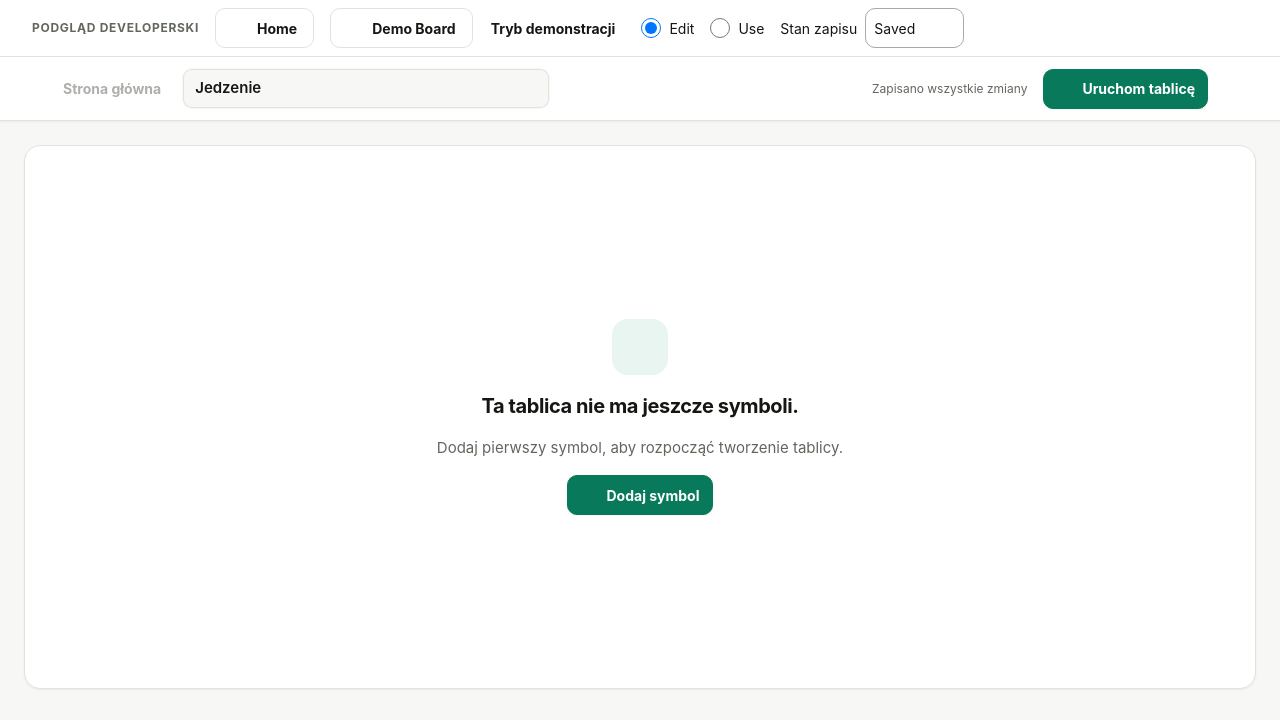
Test: App › keeps demo name changes in local React state
The width and height of the screenshot is (1280, 720).
Replace the text in the field named "Nazwa tablicy" with "Napoje" at (366, 89), box [182,68,550,109]
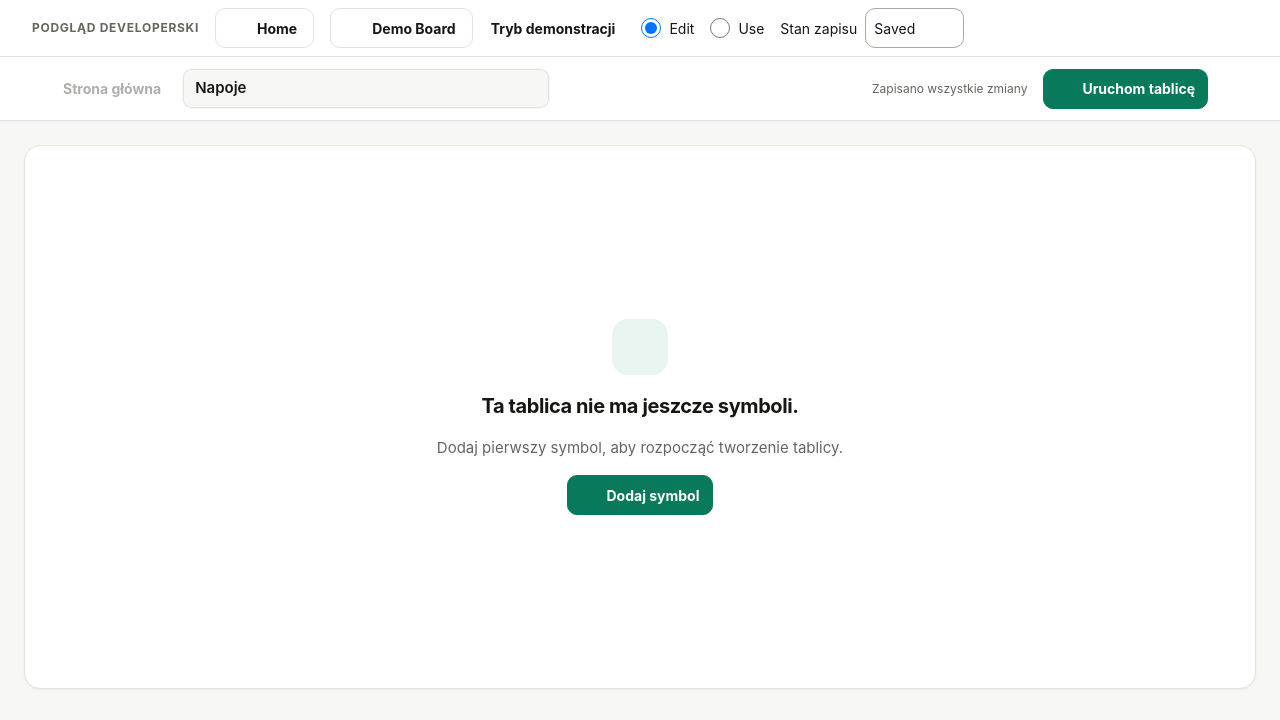
Click the radio button labelled "Use" at (720, 28), box [710,18,730,38]
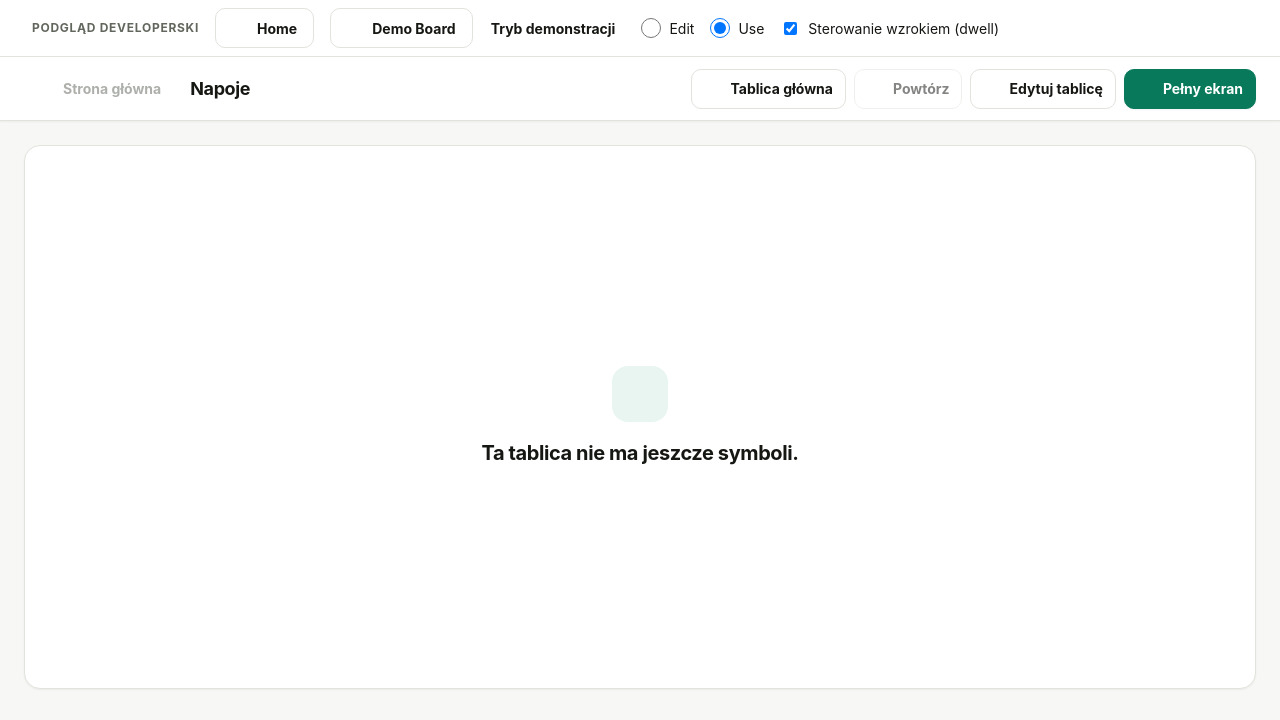
Expected: the heading "Napoje" is shown, [190,78,250,99]
